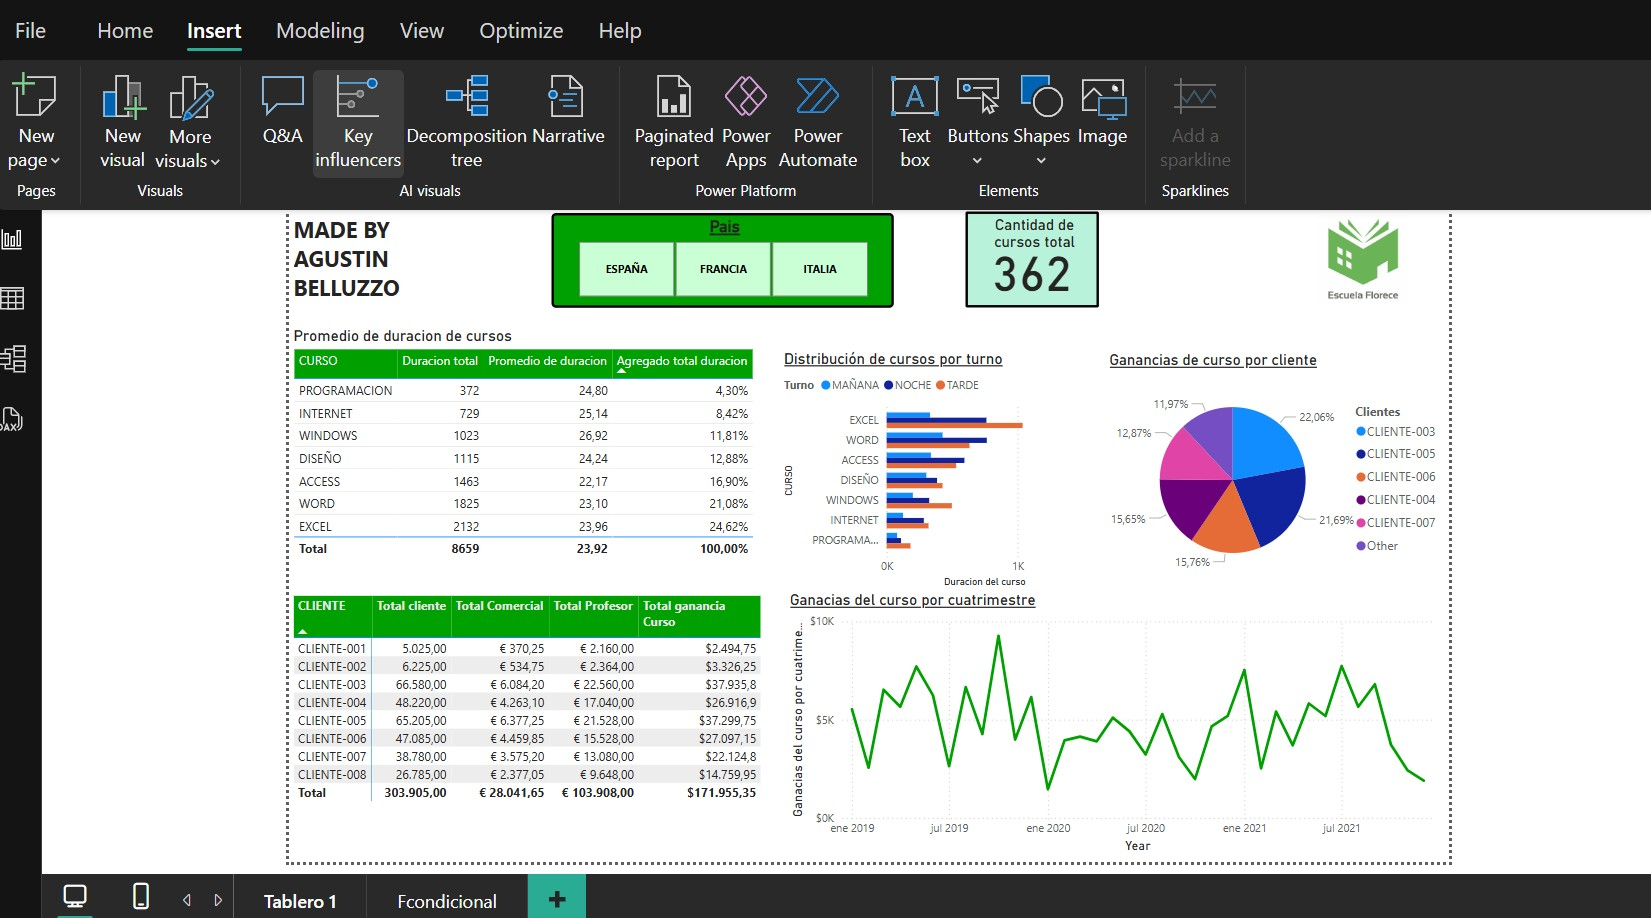

This screenshot's page, from the dashboard's own definition file:
{"tool":"powerbi","page":{"name":"Tablero 1","canvas":[1280,720],"ordinal":0},"visuals":[{"type":"tableEx","title":"Promedio de duracion de cursos","fields":{"Values":["T_Cursos.CURSO","Sum(T_Cursos.DURACION)1","Avg(T_Cursos.DURACION)","Divide(Sum(T_Cursos.DURACION), ScopedEval(Sum(T_Cursos.DURACION), []))"]},"box":[0,129.2,541.7,266.7],"z":0},{"type":"slicer","title":"Pais","fields":{"Values":["T_Cursos.PAIS"]},"box":[289.9,3.3,377.7,104.4],"z":1000},{"type":"card","title":"Cantidad de cursos  total","fields":{"Values":["CountNonNull(T_Cursos.CURSO)"]},"box":[747.1,1.7,147.4,106],"z":2000},{"type":"clusteredBarChart","title":"Distribución de cursos por turno","fields":{"Category":["T_Cursos.CURSO"],"Y":["Sum(T_Cursos.DURACION)"],"Series":["T_Cursos.JORNADA CURSO"]},"box":[541.7,154.1,352.8,266.7],"z":3000},{"type":"pivotTable","fields":{"Rows":["T_Cursos.CLIENTE"],"Values":["Sum(T_Cursos.IMPORTE CLIENTE)","Sum(T_Cursos.IMPORTE COMERCIAL)","Sum(T_Cursos.IMPORTE PROFESOR)","Sum(T_Cursos.Ganancias por curso)"]},"box":[0,420.7,526.8,260.1],"z":5000},{"type":"pieChart","title":"Ganancias de curso por cliente","fields":{"Y":["Sum(T_Cursos.Ganancias por curso)"],"Category":["T_Cursos.CLIENTE (groups) 2"]},"box":[901.1,155.7,379.3,265],"z":6000},{"type":"lineChart","title":"Ganacias del curso por cuatrimestre","fields":{"Y":["Sum(T_Cursos.Ganancias por curso)"],"Category":["T_Cursos.FECHA CURSO.Variation.Date Hierarchy.Year","T_Cursos.FECHA CURSO.Variation.Date Hierarchy.Quarter","T_Cursos.FECHA CURSO.Variation.Date Hierarchy.Month"]},"box":[548.3,420.7,730.5,293.2],"z":7000},{"type":"image","box":[1091.6,0,188.8,107.7],"z":7001},{"type":"textbox","box":[0,0,147.4,107.7],"z":7002}]}

Visuals, with their boxes on the page's 1280x720 design canvas (x1, y1, x2, y2). These are canvas units, not pixel positions in the 1651x918 screenshot, which may show the page scaled, cropped or inside an application window:
"Promedio de duracion de cursos" tableEx: (0, 129, 542, 396)
"Pais" slicer: (290, 3, 668, 108)
"Cantidad de cursos  total" card: (747, 2, 894, 108)
"Distribución de cursos por turno" clusteredBarChart: (542, 154, 894, 421)
pivotTable - T_Cursos.CLIENTE x Sum(T_Cursos.IMPORTE CLIENTE): (0, 421, 527, 681)
"Ganancias de curso por cliente" pieChart: (901, 156, 1280, 421)
"Ganacias del curso por cuatrimestre" lineChart: (548, 421, 1279, 714)
image: (1092, 0, 1280, 108)
textbox: (0, 0, 147, 108)
